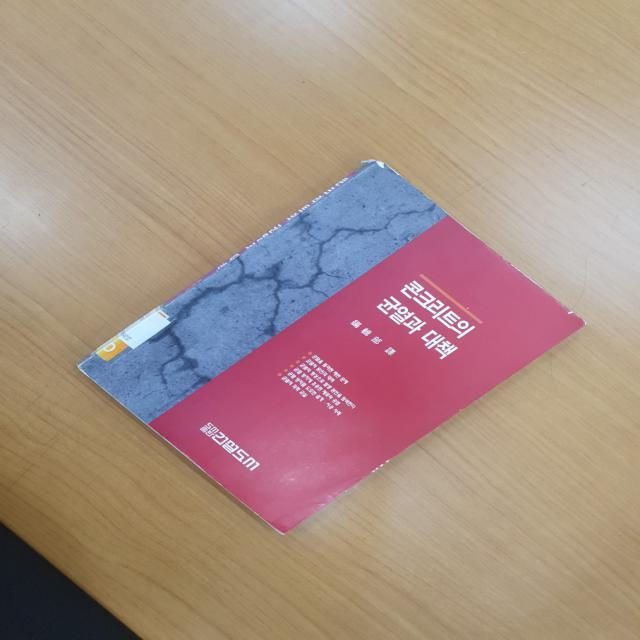Ripped: (355, 154, 402, 178)
Wornout: (148, 424, 227, 491), (437, 204, 500, 256), (241, 501, 289, 538), (503, 258, 545, 290), (554, 300, 592, 331), (415, 189, 435, 207)
